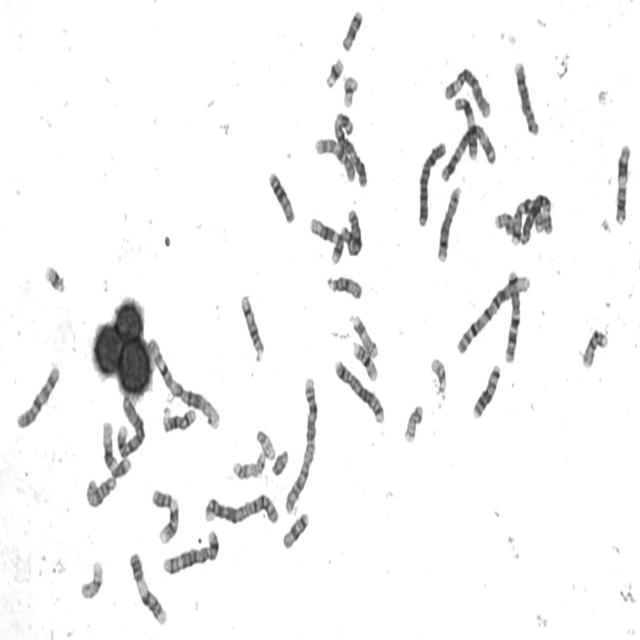A1: (144, 334, 222, 432), (454, 270, 531, 357)
A2: (283, 373, 319, 518), (202, 488, 281, 528)
A3: (438, 119, 498, 184), (332, 108, 368, 189)
B4: (416, 138, 447, 228), (115, 392, 146, 458)
B5: (332, 356, 385, 426), (160, 526, 220, 577)
C10: (14, 361, 62, 431), (313, 134, 357, 184)
C11: (452, 94, 479, 162), (613, 140, 632, 227)
C12: (100, 417, 132, 480), (308, 214, 344, 266)
C6: (443, 64, 492, 120), (519, 190, 553, 247)
C7: (510, 193, 548, 246), (503, 266, 522, 365)
C8: (435, 182, 463, 265), (512, 57, 540, 137)
C9: (127, 548, 169, 628), (149, 485, 180, 546)
D13: (470, 360, 502, 422), (266, 168, 296, 225)
D14: (238, 291, 266, 363), (160, 403, 198, 434)
D15: (84, 472, 117, 510), (324, 272, 364, 302)
E16: (580, 326, 610, 370), (351, 338, 379, 384)
E17: (348, 310, 379, 360), (230, 447, 268, 482)
E18: (281, 509, 310, 551), (340, 6, 364, 53)
F19: (78, 556, 104, 602), (340, 70, 364, 110)
F20: (402, 401, 425, 444), (492, 208, 516, 238)
G21: (42, 262, 67, 296), (323, 54, 345, 90)
G22: (428, 354, 448, 395), (254, 426, 277, 461)
X: (340, 205, 363, 257)
Y: (270, 445, 290, 478)
